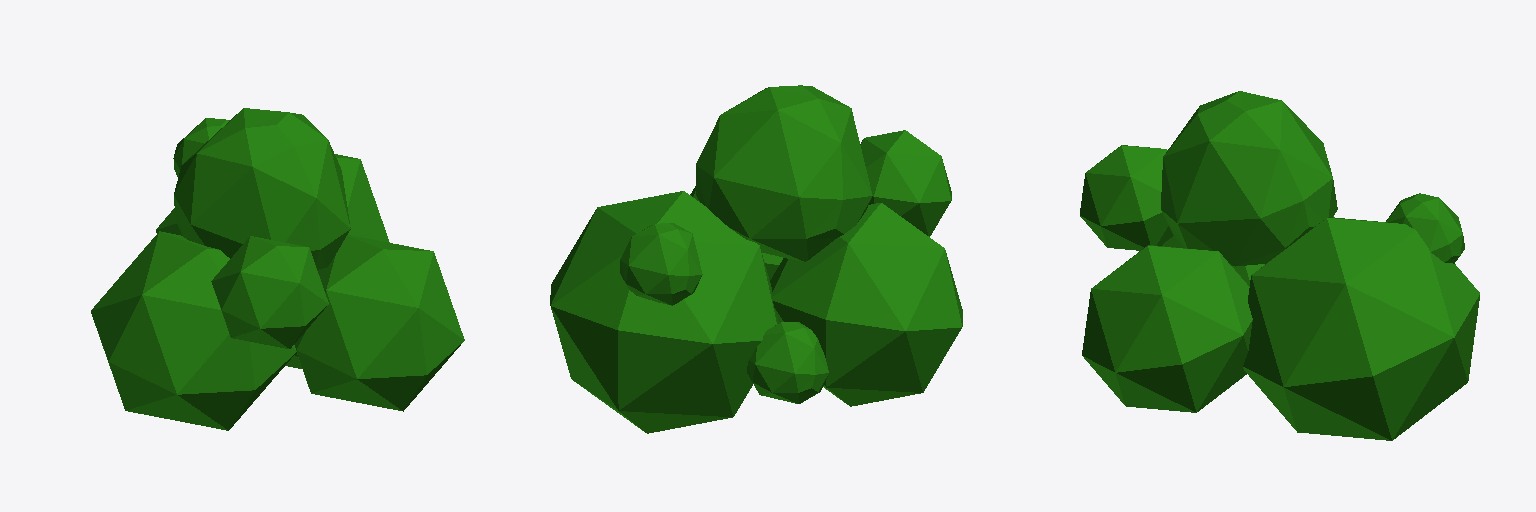
Rendered from Bush.obj.
3 views of the same model, side by side, from view 1: azimuth 30°, elevation 25°; view 2: azimuth 150°, elevation 25°; view 3: azimuth 270°, elevation 25° (orthographic).
Visible parts, largest first — view 1: Sfera_10_Untitled.102, Sfera_3_4_Untitled.056, Sfera_1_3_Untitled.080, Sfera_5_4_Untitled.123, Sfera_2_4_Untitled.002, Sfera_5_3_Untitled.011; view 2: Sfera_2_4_Untitled.002, Sfera_10_Untitled.102, Sfera_1_3_Untitled.080, Sfera_5_4_Untitled.123, Sfera_5_3_Untitled.011, Sfera_4_4_Untitled.035; view 3: Sfera_2_4_Untitled.002, Sfera_1_3_Untitled.080, Sfera_3_4_Untitled.056, Sfera_5_4_Untitled.123, Sfera_5_3_Untitled.011.
Part boxes in pixels (bbox=[...]): Sfera_10_Untitled.102: bbox=[91, 231, 296, 430]; Sfera_3_4_Untitled.056: bbox=[294, 235, 464, 411]; Sfera_1_3_Untitled.080: bbox=[174, 108, 350, 271]; Sfera_5_4_Untitled.123: bbox=[211, 236, 328, 348]; Sfera_2_4_Untitled.002: bbox=[156, 154, 389, 368]; Sfera_5_3_Untitled.011: bbox=[173, 118, 229, 176]; Sfera_2_4_Untitled.002: bbox=[550, 191, 778, 433]; Sfera_10_Untitled.102: bbox=[770, 203, 962, 406]; Sfera_1_3_Untitled.080: bbox=[696, 85, 872, 261]; Sfera_5_4_Untitled.123: bbox=[860, 130, 951, 236]; Sfera_5_3_Untitled.011: bbox=[620, 223, 702, 305]; Sfera_4_4_Untitled.035: bbox=[747, 322, 828, 403]; Sfera_2_4_Untitled.002: bbox=[1243, 217, 1479, 440]; Sfera_1_3_Untitled.080: bbox=[1161, 91, 1337, 266]; Sfera_3_4_Untitled.056: bbox=[1082, 245, 1252, 412]; Sfera_5_4_Untitled.123: bbox=[1080, 145, 1173, 250]; Sfera_5_3_Untitled.011: bbox=[1386, 193, 1464, 263].
Size of the model in its own units: 2.1 by 1.79 by 2.14.